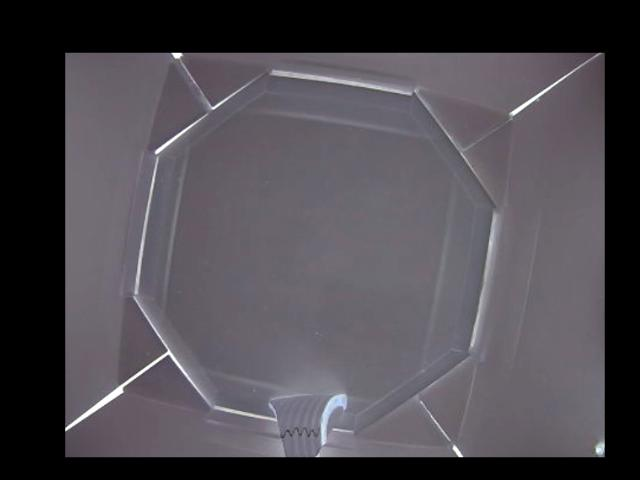China: (261, 390, 346, 457)
